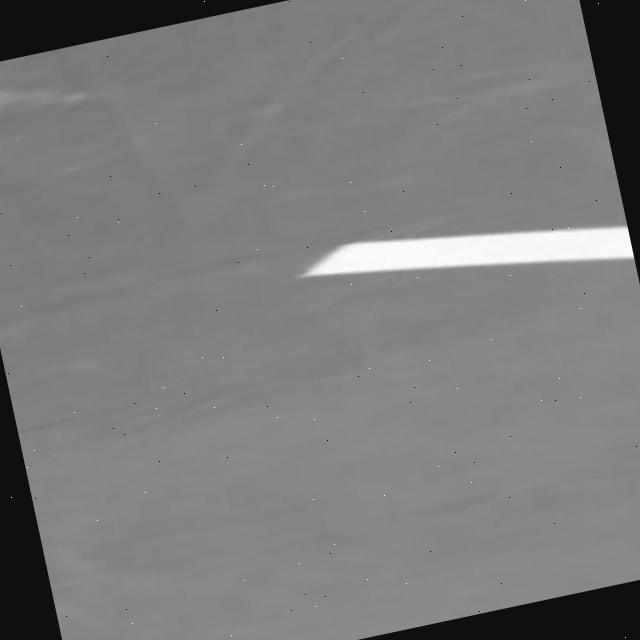center: (298, 227, 634, 277)
